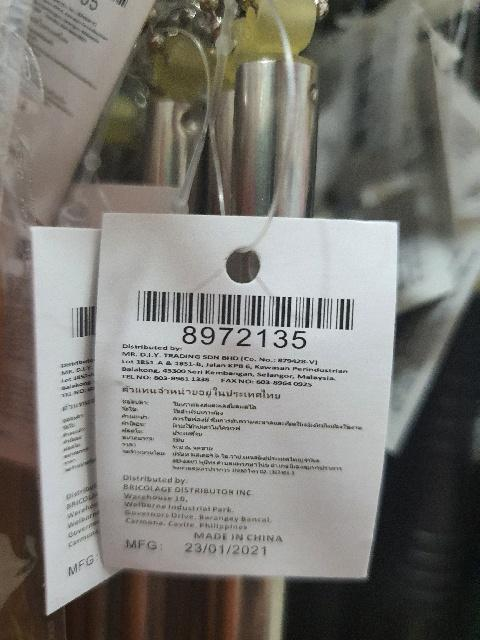Barcode: (121, 285, 371, 349)
